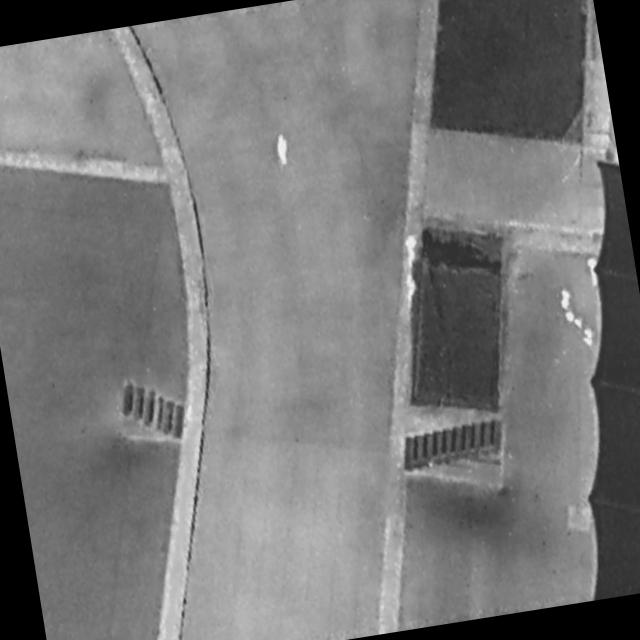person: (400, 230, 423, 270), (401, 272, 424, 312), (274, 131, 293, 170), (585, 255, 602, 290)
